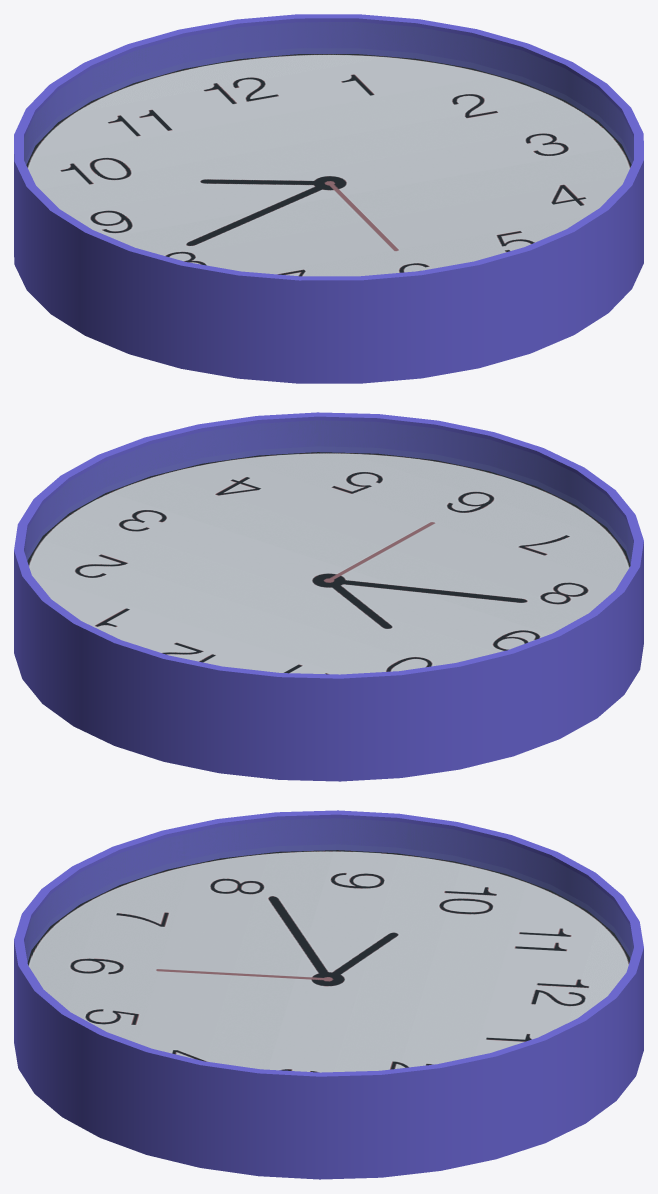
File: clocc.glb
3 renders of one model, top to bottom at view 1: azimuth 30°, elevation 25°; view 2: azimuth 150°, elevation 25°; view 3: azimuth 270°, elevation 25°, orthographic.
Visible parts, largest first — view 1: clocc; view 2: clocc; view 3: clocc.
Boxes of the visible parts, left/top/right/bottom form: clocc: left=14, top=14, right=643, bottom=383; clocc: left=14, top=412, right=643, bottom=781; clocc: left=14, top=810, right=643, bottom=1179.
Size of the model in its own units: 4.23 by 0.7615 by 4.23.
Materials: 3 (1 with a texture image).
